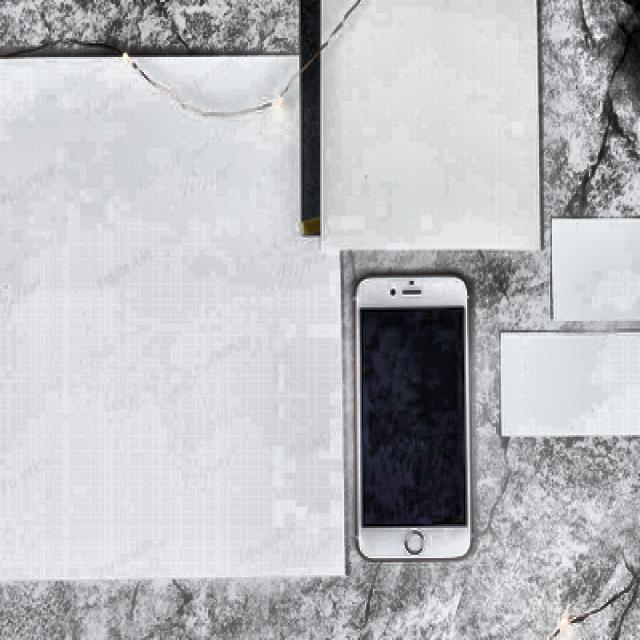Phone: (350, 270, 476, 562)
